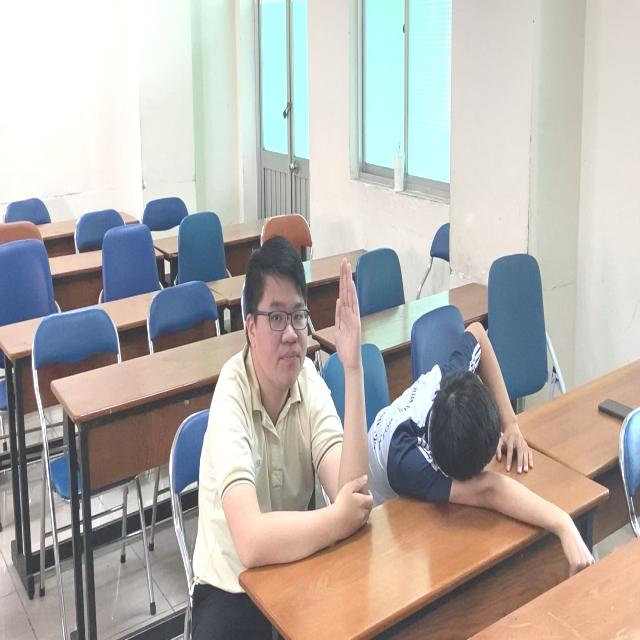raise_hand: (214, 240, 368, 580)
sleep: (377, 313, 537, 517)
